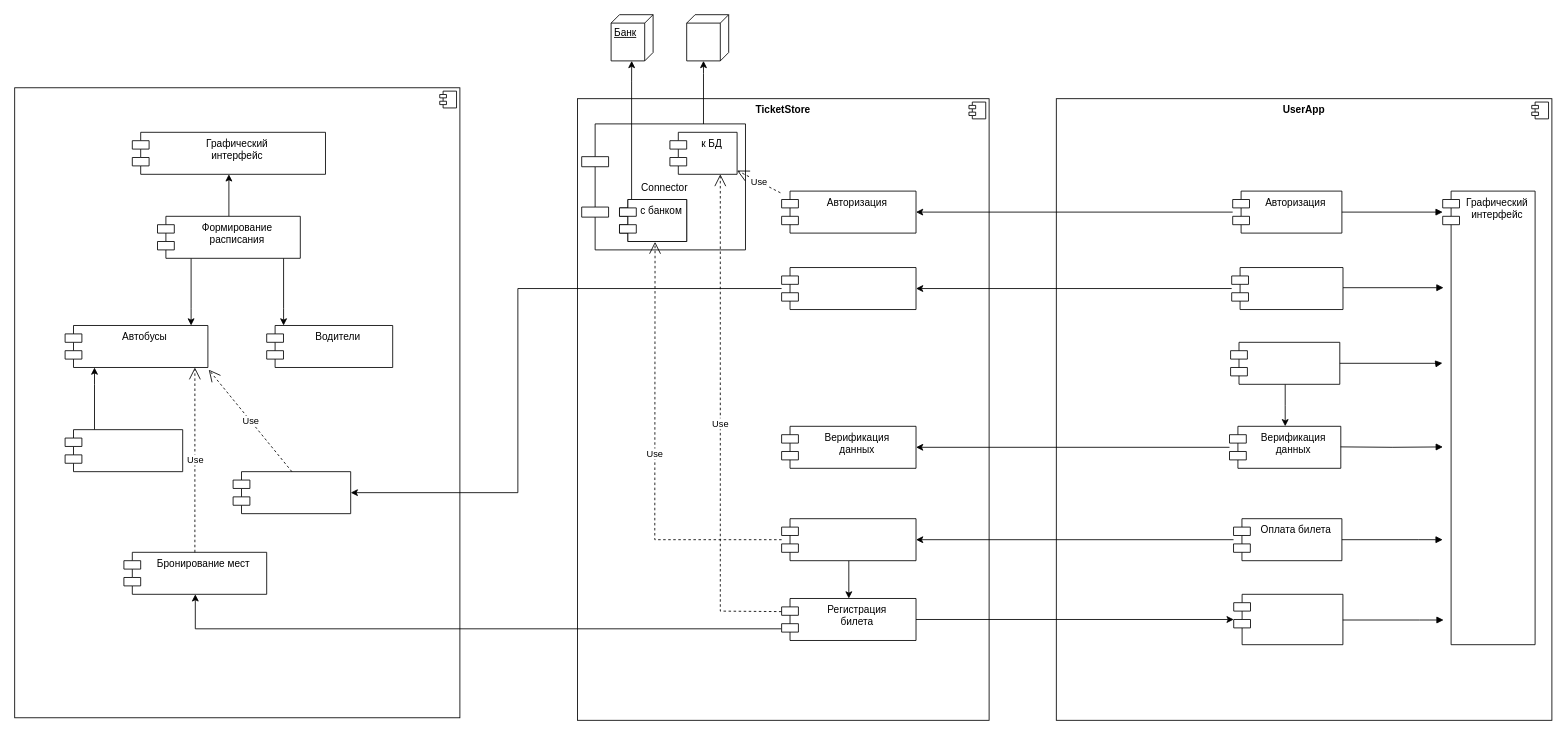
Some shapes in this 1567 by 735 pixel diagram are drawn without their labels. Each missing label, with the box of its shape:
BusDepot: (14, 87, 460, 718)
GPS-мониторинг: (64, 429, 183, 472)
БД: (686, 14, 729, 61)
Билет: (1233, 593, 1343, 645)
Оформление заказа: (1230, 341, 1340, 384)
Оформление продажи: (781, 518, 916, 561)
Поиск билета: (1231, 267, 1343, 310)
Поиск билетов: (781, 267, 916, 310)
Поиск доступных мест: (232, 471, 351, 514)
